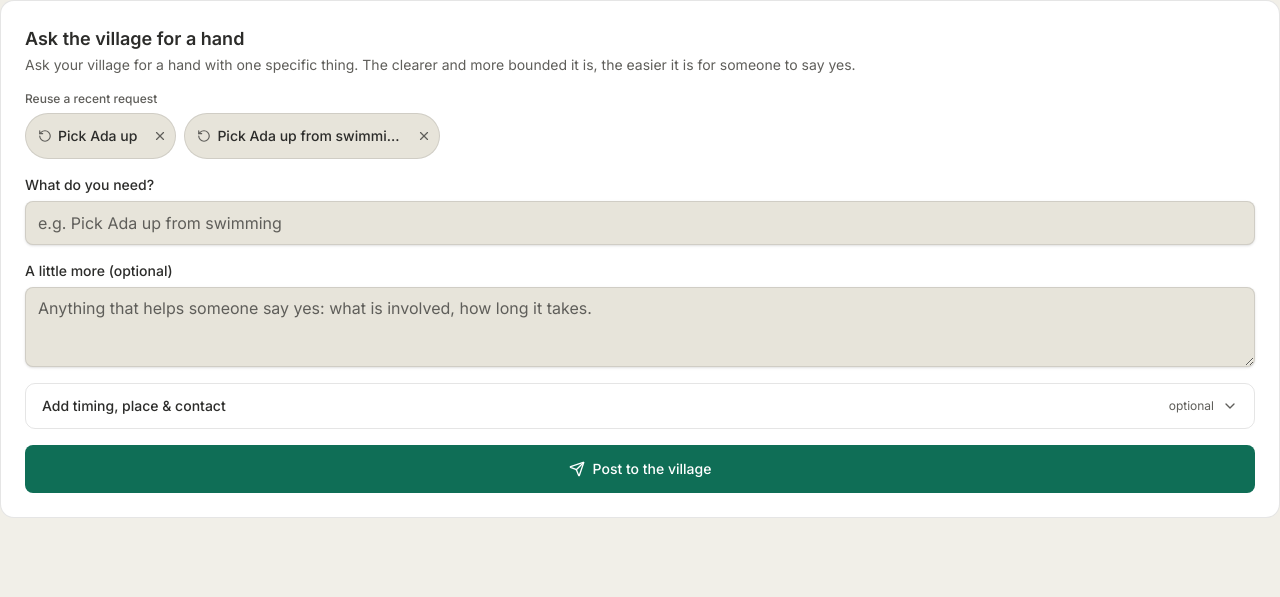
it: PostNeedForm › maps a 403 not-owner to a calm 'only the Coordinator' message
The width and height of the screenshot is (1280, 597).
Type "Pick Ada up" into the field labelled "What do you need?" at (640, 223), box [25, 201, 1255, 245]
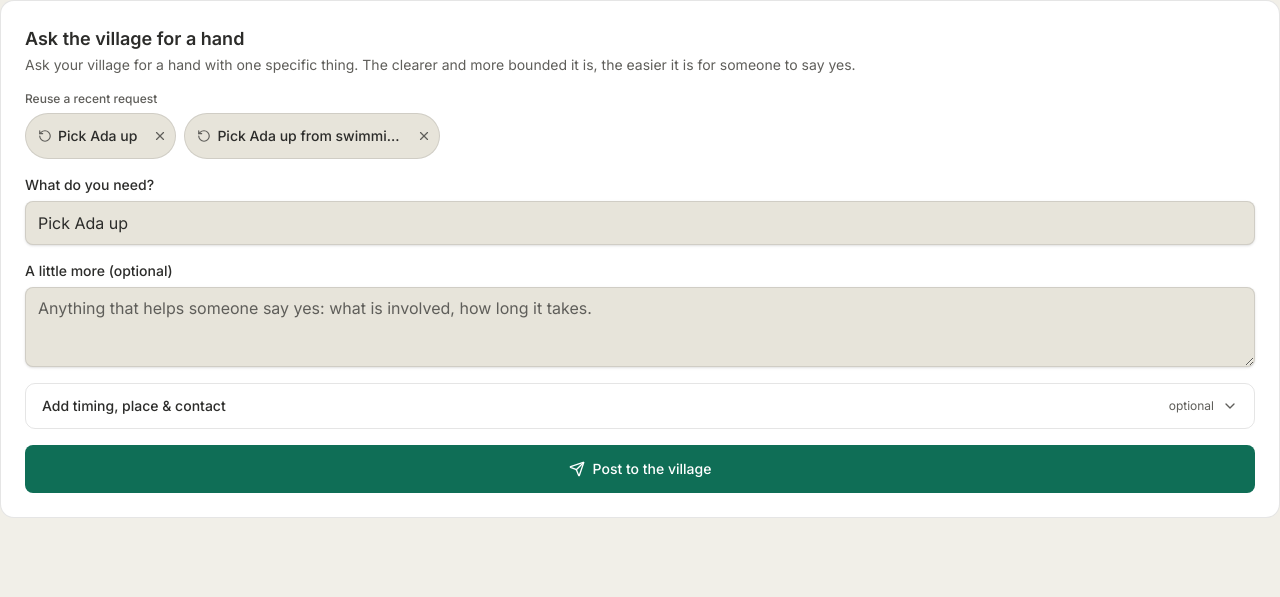
Click the button "Post to the village" at (640, 469), box [25, 445, 1255, 493]
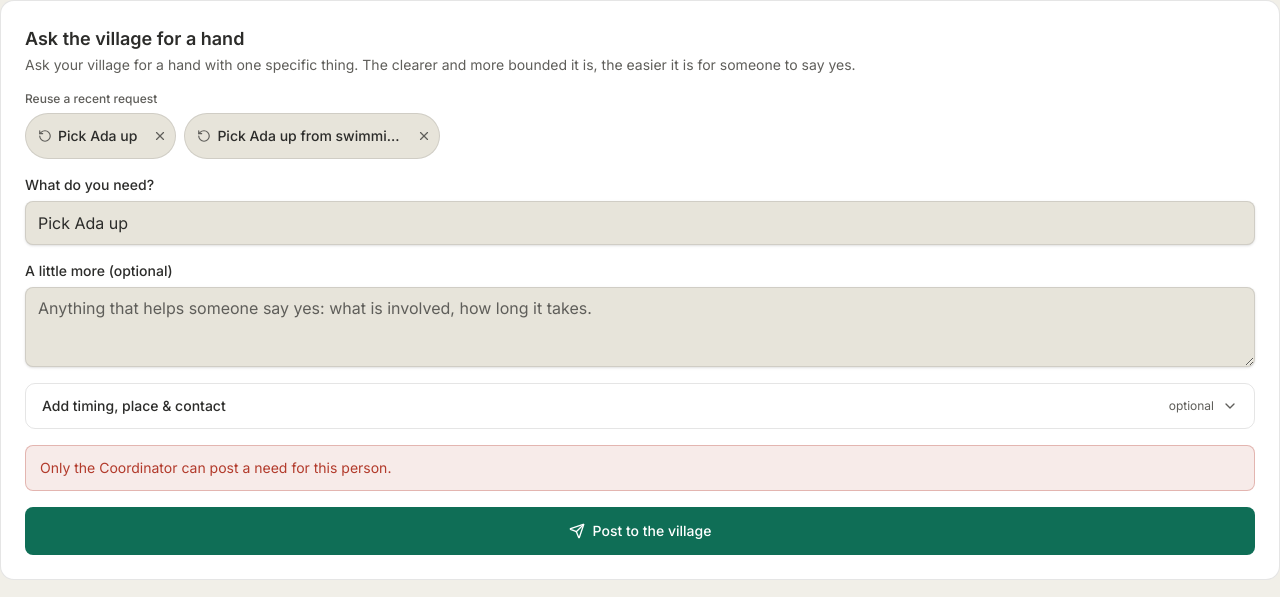
Check: the text "Only the Coordinator can post a need for this person." is shown, box [25, 445, 1255, 491]
